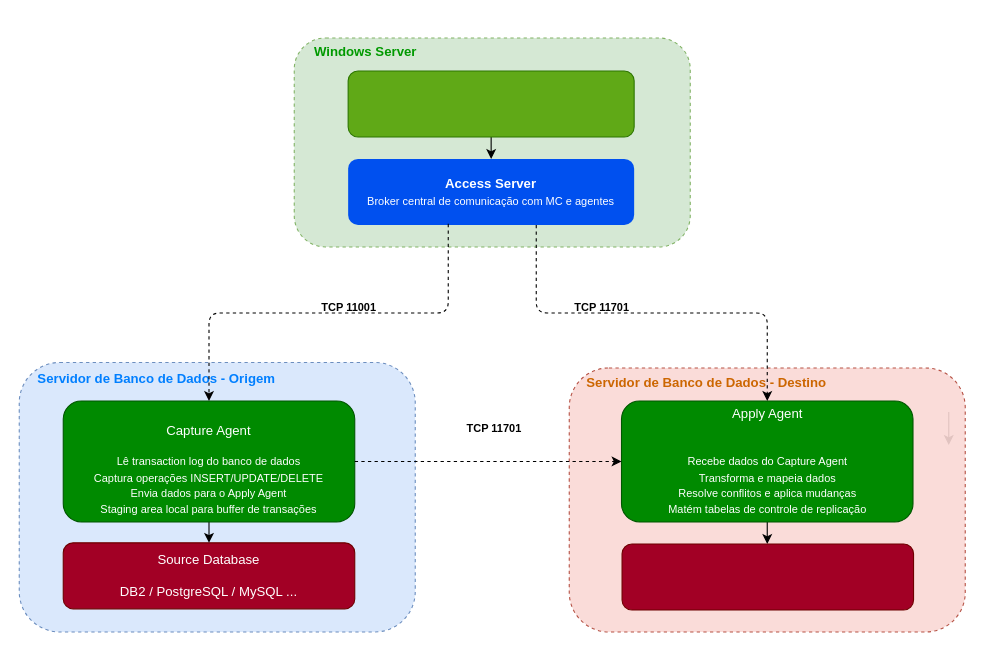
This 985x651 diagram has some shape labels left out. Here are the shapes that lost their labels. From the top down, the box of each, then its label:
(347, 70, 634, 137): Management Console Interface gráfica de administração e monitoramento
(621, 543, 914, 610): Target Database DB2 / PostgreSQL / MySQL ...
